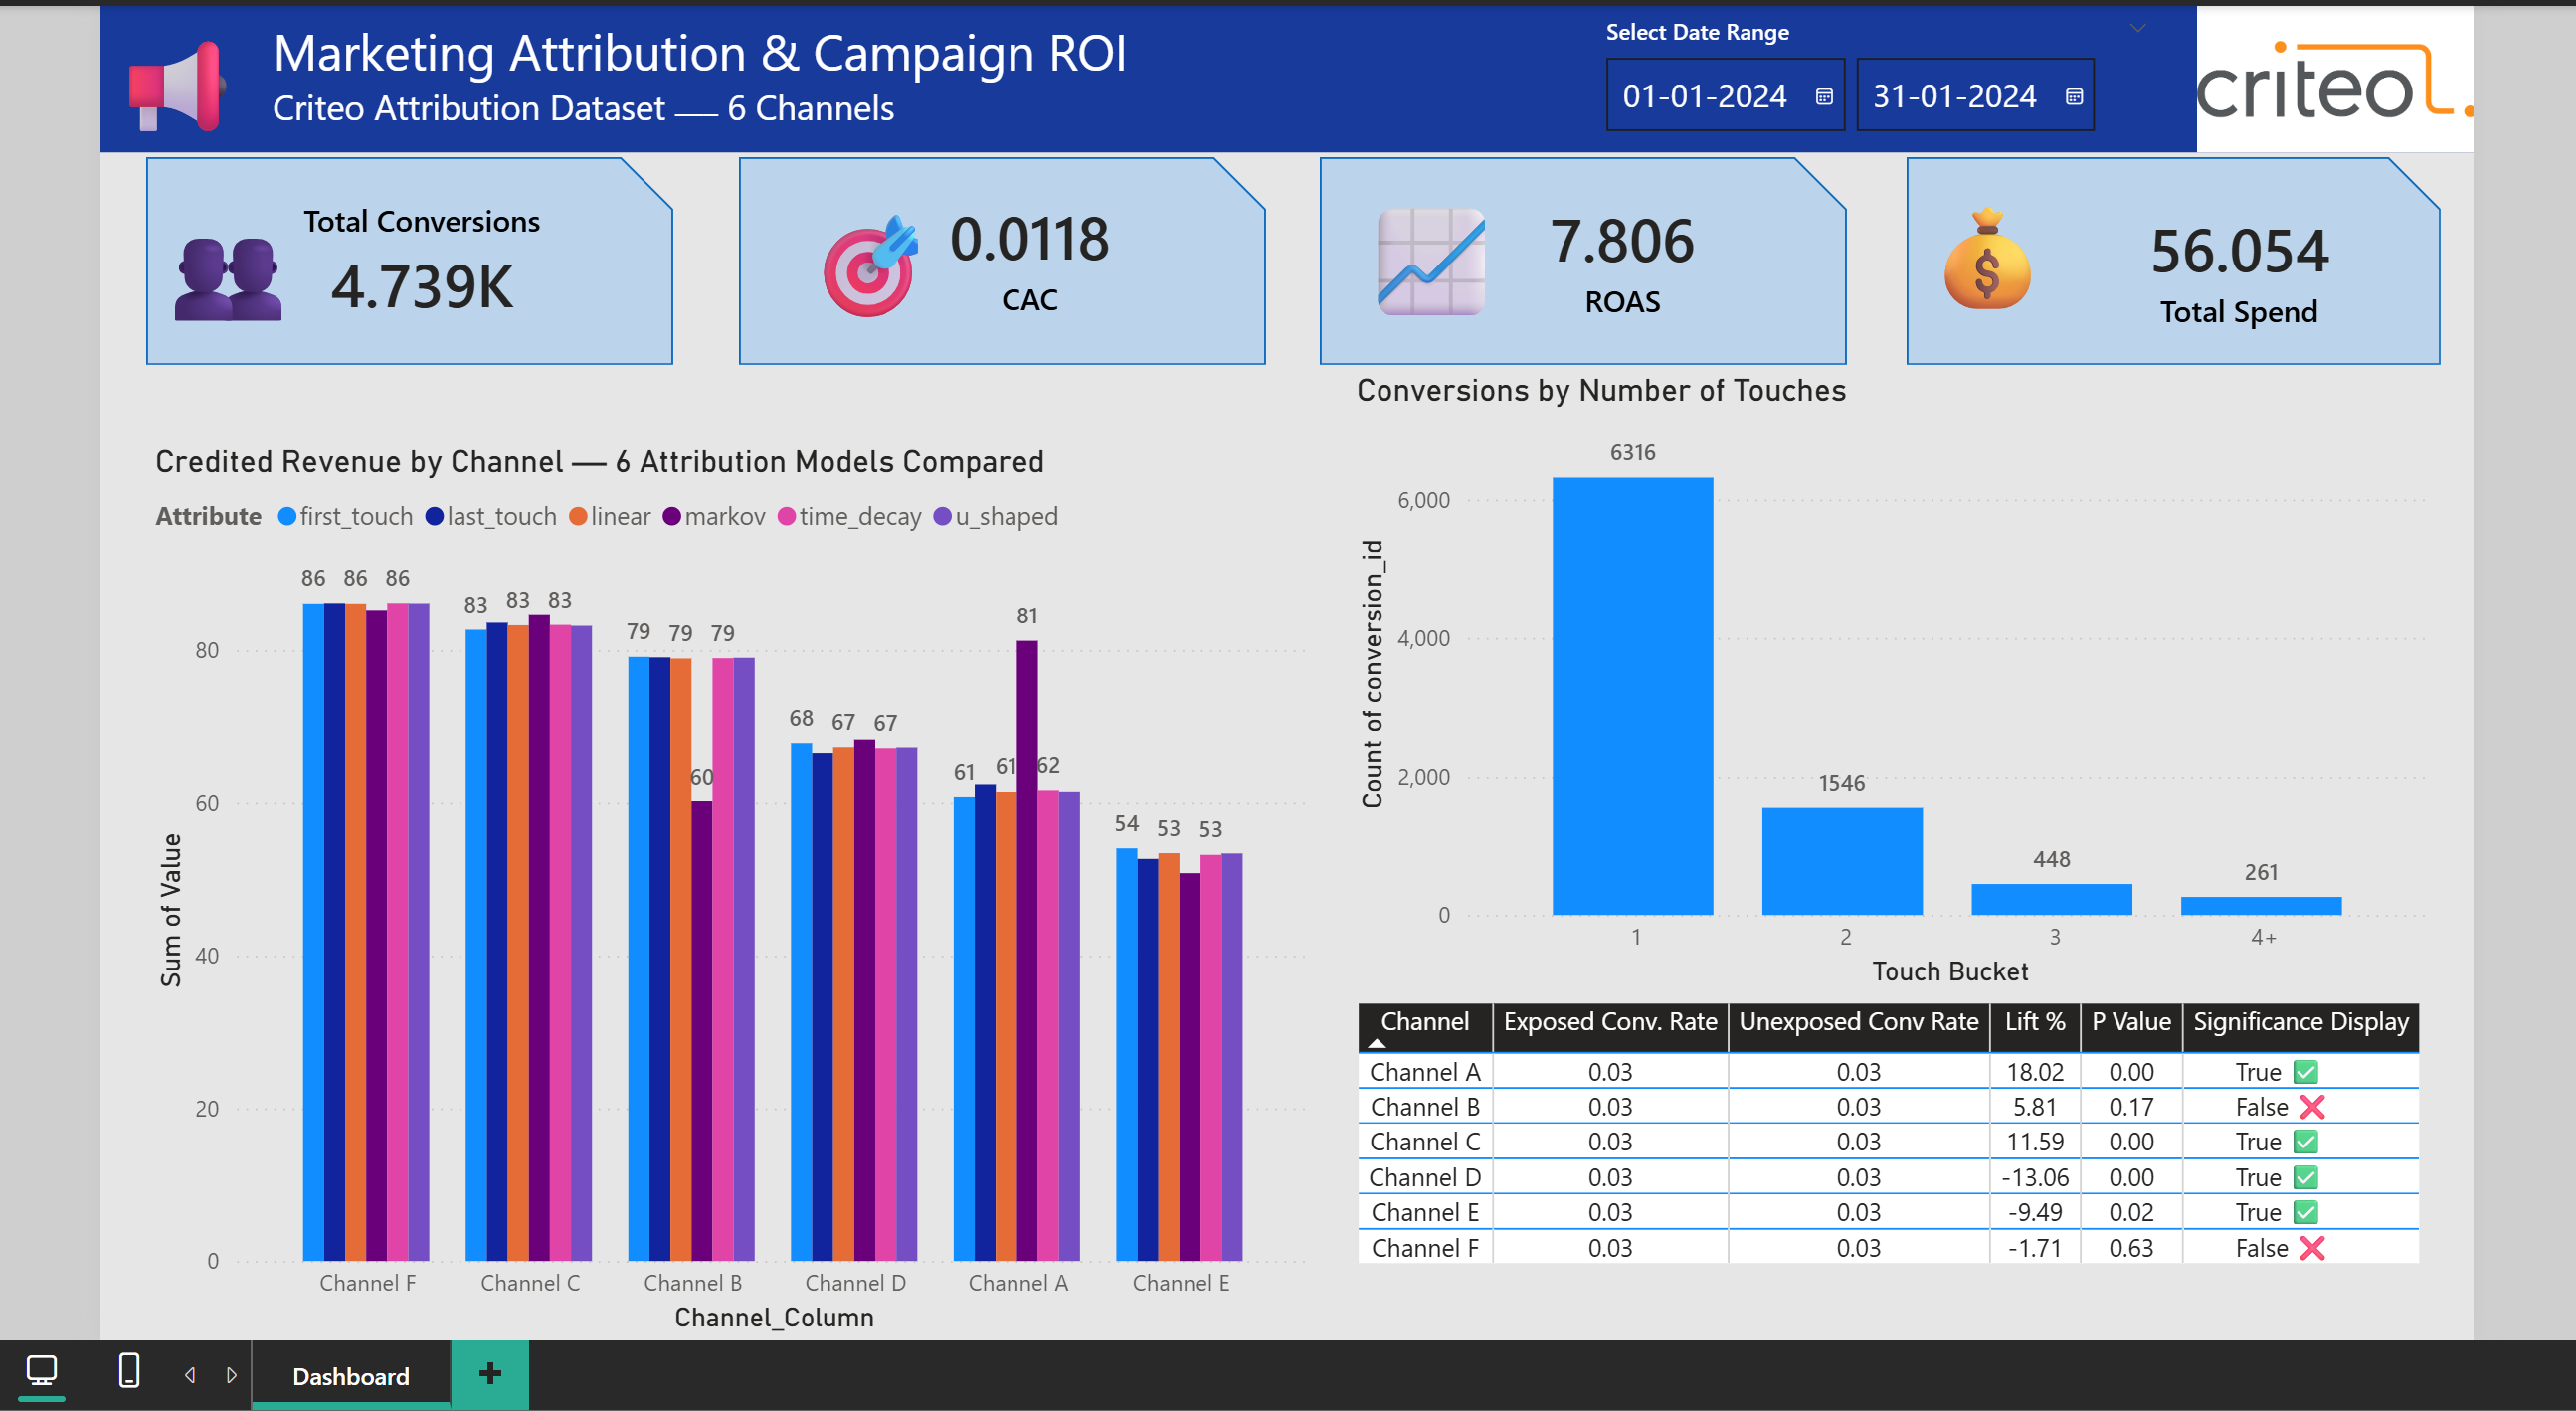

Layout of this report page (visuals, bound fields, positions):
{"tool":"powerbi","page":{"name":"Dashboard","canvas":[1280,720],"ordinal":0},"visuals":[{"type":"shape","box":[974,81.6,288.1,112.2],"z":0},{"type":"shape","box":[657.4,81.6,284.3,112.2],"z":1000},{"type":"shape","box":[344.2,81.6,284.3,112.2],"z":2000},{"type":"textbox","box":[0,0,1280,79],"z":3000},{"type":"shape","box":[24.2,81.6,284.3,112.2],"z":4000},{"type":"cardVisual","fields":{"Data":["Default_Measures.Total Spend"]},"box":[1069.6,85.4,168.3,112.2],"z":6000},{"type":"slicer","fields":{"Values":["public dim_date.date"]},"box":[799.2,0,317.2,79],"z":7000},{"type":"cardVisual","fields":{"Data":["Default_Measures.Total Conversions"]},"box":[79,81.6,188.7,112.2],"z":8000},{"type":"cardVisual","fields":{"Data":["Default_Measures.CAC"]},"box":[410.5,84.1,181,103.3],"z":9000},{"type":"cardVisual","fields":{"Data":["Default_Measures.ROAS"]},"box":[730.5,80.3,181,112.2],"z":10000},{"type":"textbox","box":[24.2,91.8,77.8,89.2],"z":11000},{"type":"textbox","box":[673.1,90.5,90.5,94.3],"z":12000},{"type":"textbox","box":[974,90.5,95.6,107.1],"z":13000},{"type":"textbox","box":[374.8,94.3,71.4,85.4],"z":14000},{"type":"clusteredColumnChart","title":"Credited Revenue by Channel — 6 Attribution Models Compared","fields":{"Series":["master_attribution_comparison.Attribute"],"Y":["Sum(master_attribution_comparison.Value)"],"Category":["master_attribution_comparison.Channel_Clolumn"]},"box":[24.2,235.9,633.6,484.5],"z":15000},{"type":"clusteredColumnChart","title":"Conversions by Number of Touches","fields":{"Y":["CountNonNull(public journey_paths.conversion_id)"],"Category":["public journey_paths.Touch Bucket"]},"box":[673.1,197.6,590.3,336.6],"z":16000},{"type":"tableEx","fields":{"Values":["incrementality_results.channel","incrementality_results.exposed_conv_rate","incrementality_results.unexposed_conv_rate","incrementality_results.lift_pct","incrementality_results.p_value","Default_Measures.Significance Display"]},"box":[673.1,532.9,591.6,187.4],"z":17000},{"type":"textbox","box":[88,1.3,874.6,77.8],"z":18000},{"type":"textbox","box":[0,0,93.1,81.6],"z":19000},{"type":"image","box":[1130.9,0,150.3,79],"z":19001}]}

Visuals, with their boxes on the page's 1280x720 design canvas (x1, y1, x2, y2). These are canvas units, not pixel positions in the 2576x1411 screenshot, which may show the page scaled, cropped or inside an application window:
shape: detection(974, 82, 1262, 194)
shape: detection(657, 82, 942, 194)
shape: detection(344, 82, 628, 194)
textbox: detection(0, 0, 1280, 79)
shape: detection(24, 82, 308, 194)
cardVisual - Default_Measures.Total Spend: detection(1070, 85, 1238, 198)
slicer - public dim_date.date: detection(799, 0, 1116, 79)
cardVisual - Default_Measures.Total Conversions: detection(79, 82, 268, 194)
cardVisual - Default_Measures.CAC: detection(410, 84, 592, 187)
cardVisual - Default_Measures.ROAS: detection(730, 80, 912, 192)
textbox: detection(24, 92, 102, 181)
textbox: detection(673, 90, 764, 185)
textbox: detection(974, 90, 1070, 198)
textbox: detection(375, 94, 446, 180)
"Credited Revenue by Channel — 6 Attribution Models Compared" clusteredColumnChart: detection(24, 236, 658, 720)
"Conversions by Number of Touches" clusteredColumnChart: detection(673, 198, 1263, 534)
tableEx - incrementality_results.channel x incrementality_results.exposed_conv_rate: detection(673, 533, 1265, 720)
textbox: detection(88, 1, 963, 79)
textbox: detection(0, 0, 93, 82)
image: detection(1131, 0, 1281, 79)
